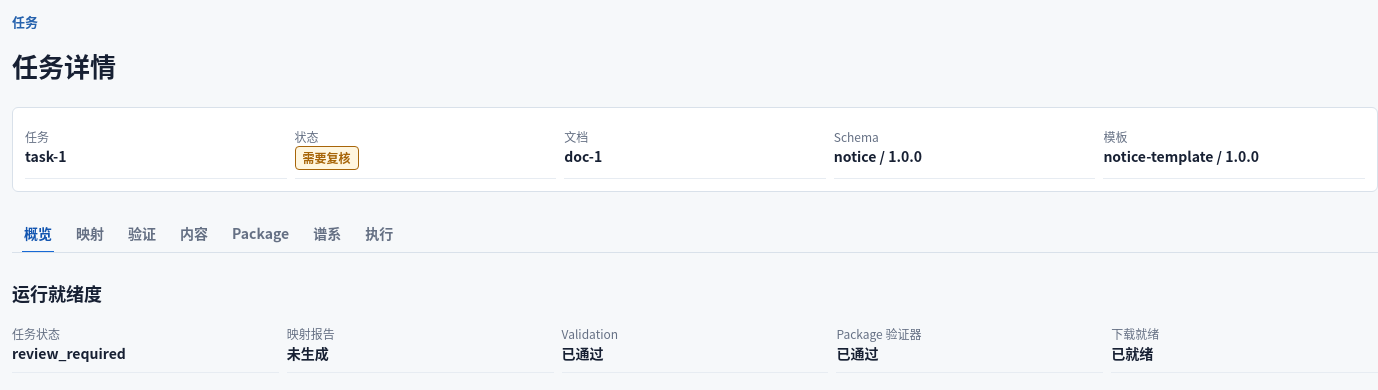
TaskDetailPage › shows an empty report state only for a confirmed missing report
The image size is (1378, 390).
Expected: the text "task-1" is shown, [25,146,66,166]
Click the tab "映射" at (90, 234), box [64,216,116,252]
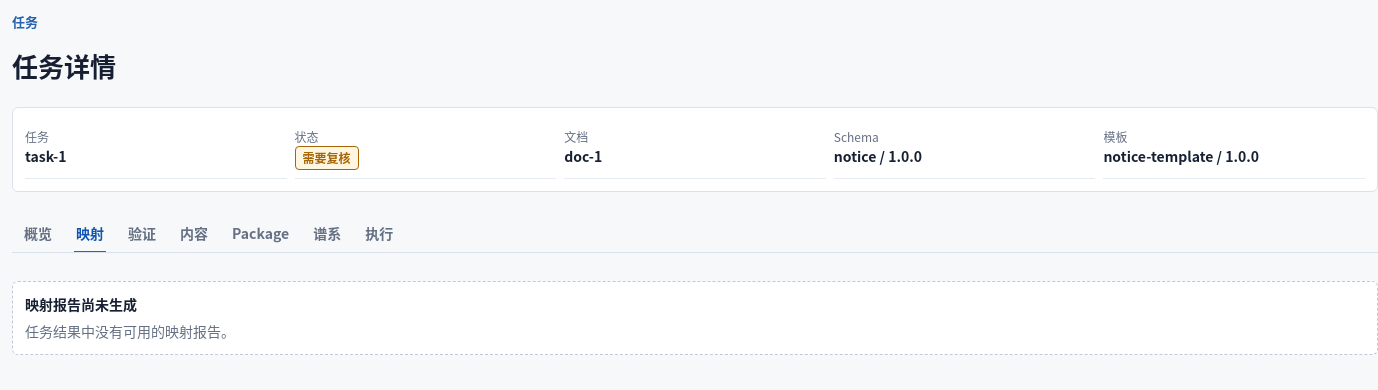
Expected: the text "映射报告尚未生成" is shown, [25,294,137,314]
